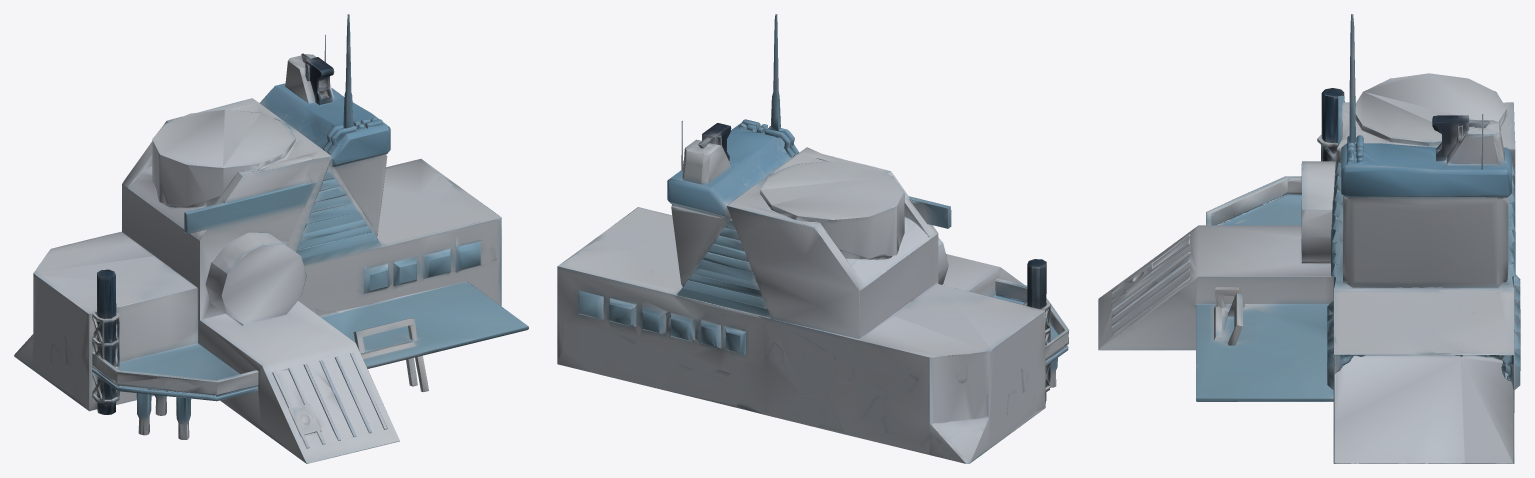
Rendered from refinement.glb.
3 views of the same model, side by side, from view 1: azimuth 30°, elevation 25°; view 2: azimuth 150°, elevation 25°; view 3: azimuth 270°, elevation 25° (orthographic). The views are drawn at different scales.
Visible parts, largest first — view 1: material; view 2: material; view 3: material.
Boxes of the visible parts, bbox=[...] form: material: bbox=[14, 14, 528, 463]; material: bbox=[557, 14, 1069, 463]; material: bbox=[1098, 14, 1520, 463].
Size of the model in its own units: 3.92 by 3.08 by 3.12.
1 material, 1 textured.
